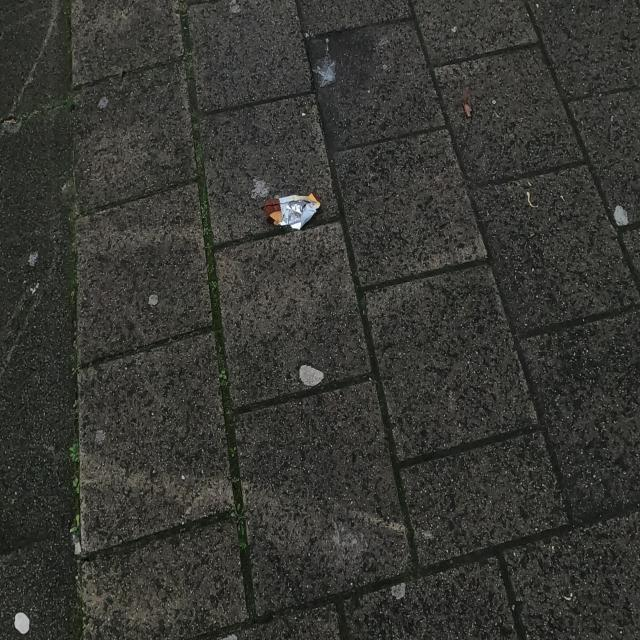Plastic: (259, 190, 323, 232)
